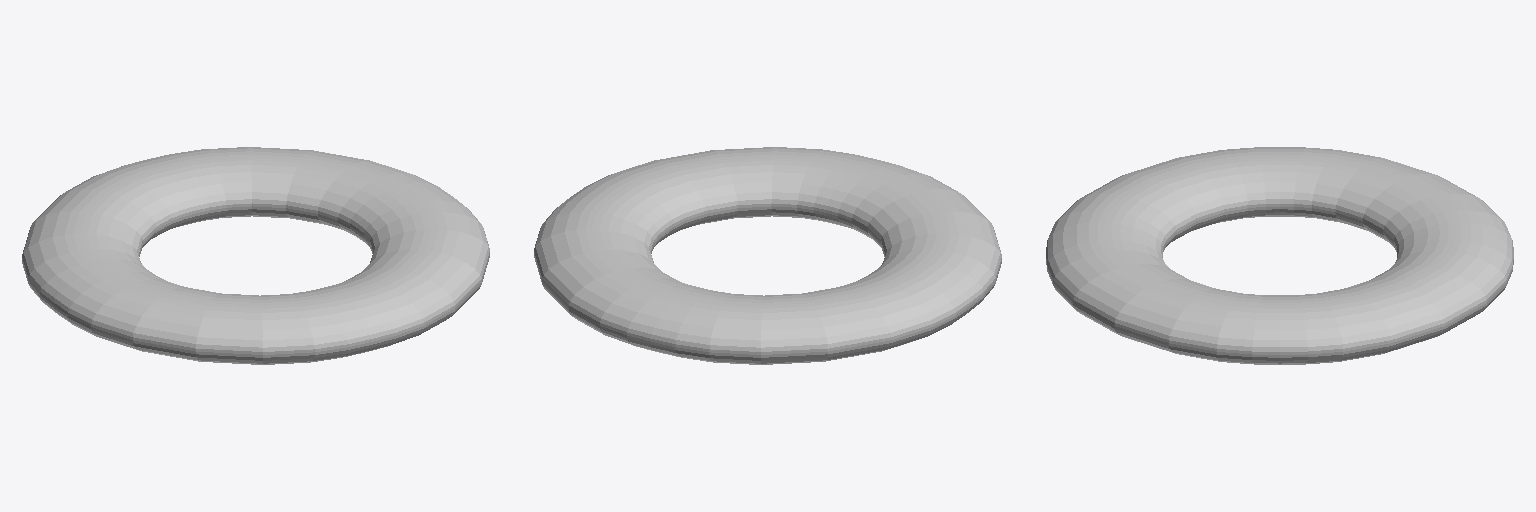
Rendered from base_nave.obj.
3 renders of one model, left to right at view 1: azimuth 30°, elevation 25°; view 2: azimuth 150°, elevation 25°; view 3: azimuth 270°, elevation 25°, orthographic.
Parts seen in each view (by area): view 1: SurfTorus_SurfTorus.001; view 2: SurfTorus_SurfTorus.001; view 3: SurfTorus_SurfTorus.001.
Part boxes in pixels (x1,y1,x2,y2): SurfTorus_SurfTorus.001: (22,147,489,364); SurfTorus_SurfTorus.001: (534,147,1001,364); SurfTorus_SurfTorus.001: (1046,147,1513,364).
Bounding box in the file's own units: 8.92 × 1.03 × 8.93.